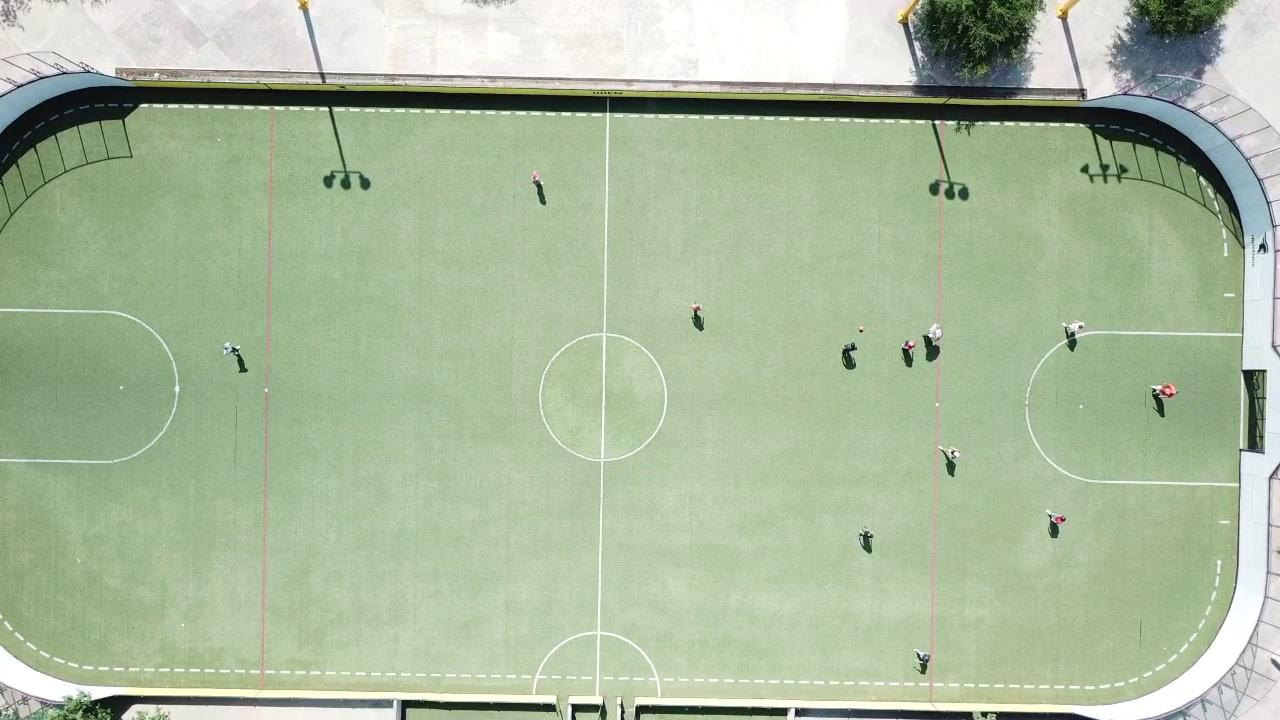ball: (858, 326, 864, 332)
player: (1063, 321, 1087, 338), (1152, 382, 1179, 397), (938, 445, 962, 461), (926, 323, 944, 344), (859, 526, 874, 546), (914, 649, 931, 665), (223, 342, 241, 356), (1048, 512, 1067, 525), (842, 342, 858, 355), (902, 340, 916, 354), (690, 303, 703, 315), (531, 170, 541, 183)
